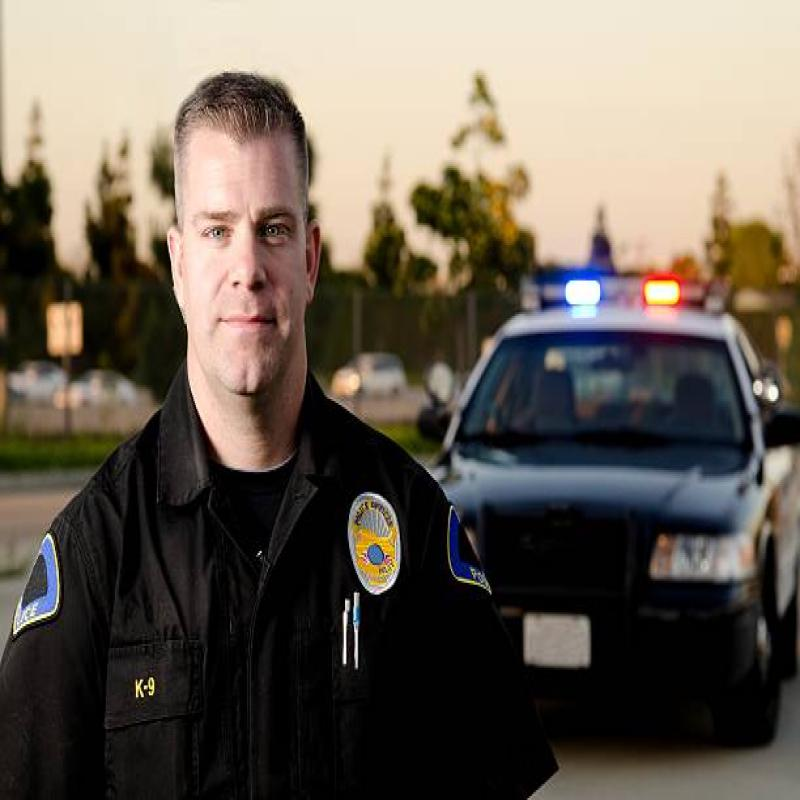AmbulanceSiren: (542, 250, 697, 324)
car: (444, 309, 800, 749)
